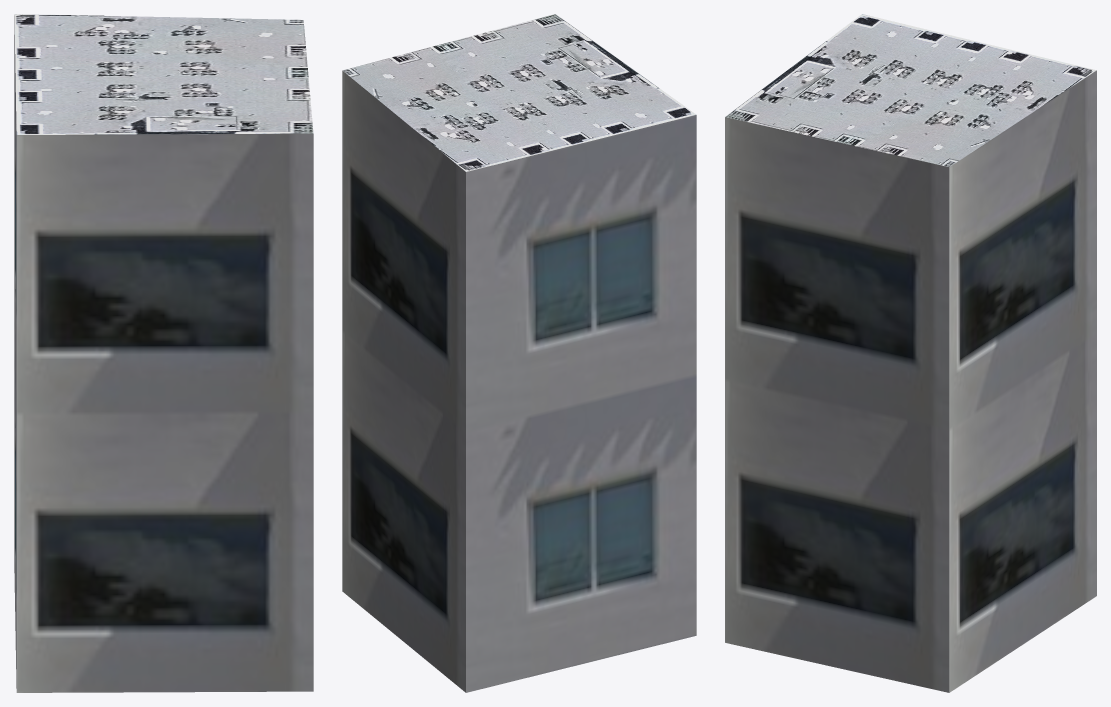
Rendered from ResTex__722.fbx.
The picture shows the model from 3 angles, left to right: view 1: azimuth 30°, elevation 25°; view 2: azimuth 150°, elevation 25°; view 3: azimuth 270°, elevation 25°; orthographic projection. The views are drawn at different scales.
Visible parts, largest first — view 1: CityEngineMaterial_10_m, CityEngineMaterial_4_m; view 2: CityEngineMaterial_10_m, CityEngineMaterial_4_m; view 3: CityEngineMaterial_10_m, CityEngineMaterial_4_m.
Boxes of the visible parts, x1=… form: CityEngineMaterial_10_m: x1=14, y1=15, x2=313, y2=692; CityEngineMaterial_4_m: x1=14, y1=14, x2=313, y2=134; CityEngineMaterial_10_m: x1=342, y1=71, x2=696, y2=692; CityEngineMaterial_4_m: x1=342, y1=14, x2=696, y2=171; CityEngineMaterial_10_m: x1=725, y1=70, x2=1096, y2=692; CityEngineMaterial_4_m: x1=725, y1=14, x2=1096, y2=167.
Bounding box in the file's own units: 3.75 × 6 × 3.85.
Materials: 2 (2 with a texture image).
